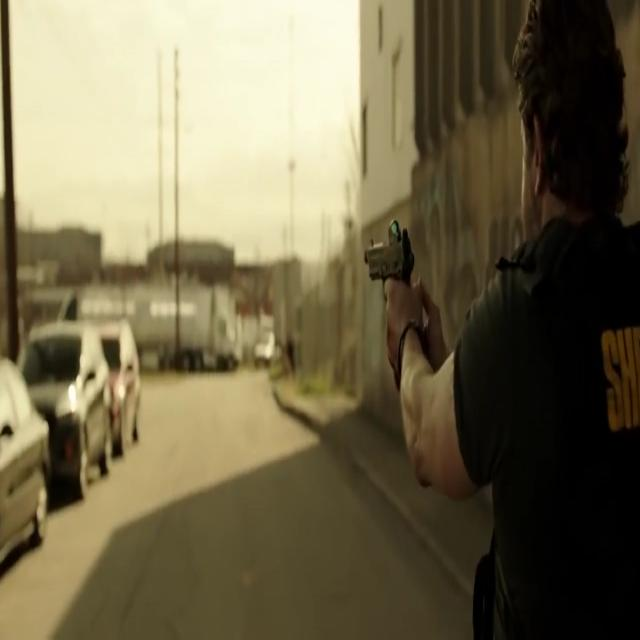Weapon: (358, 220, 420, 318)
